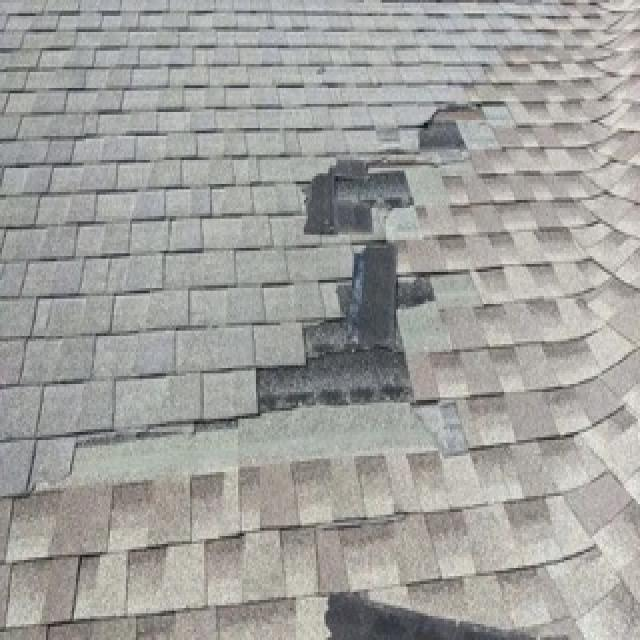damage: (234, 233, 487, 422), (318, 580, 581, 640), (293, 139, 422, 240), (407, 98, 519, 165)
